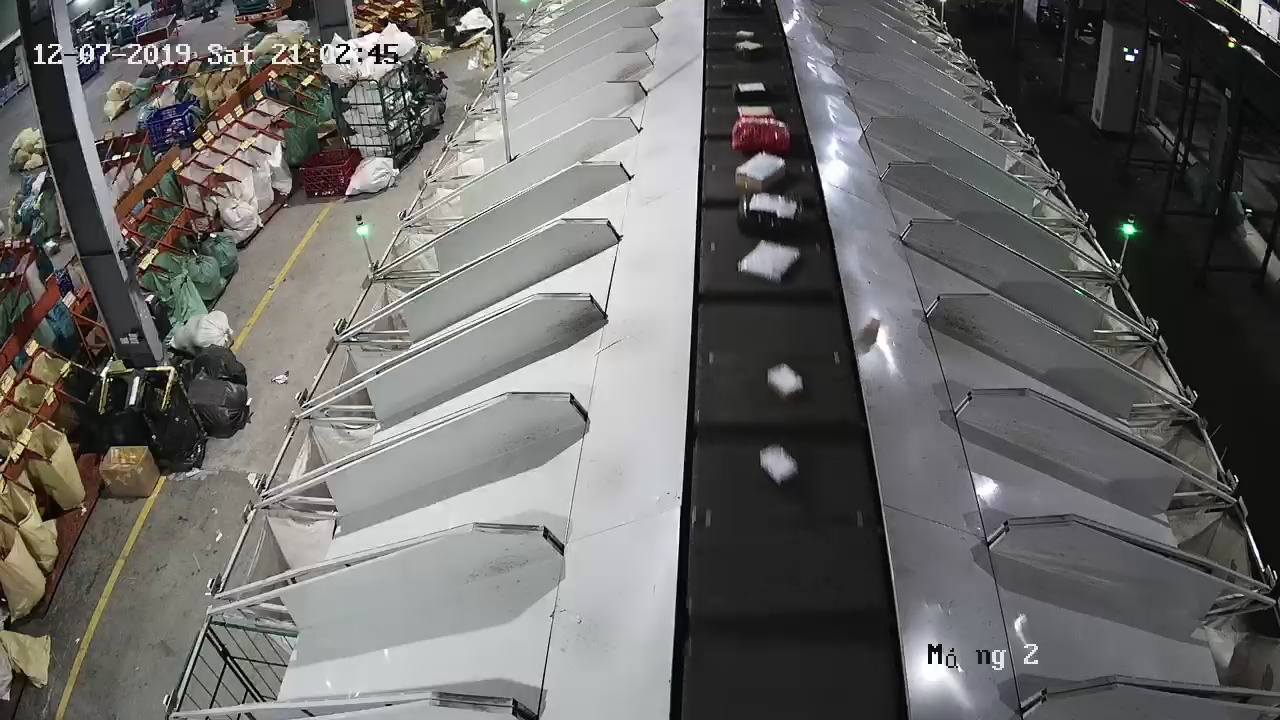parcel: (861, 317, 881, 343)
